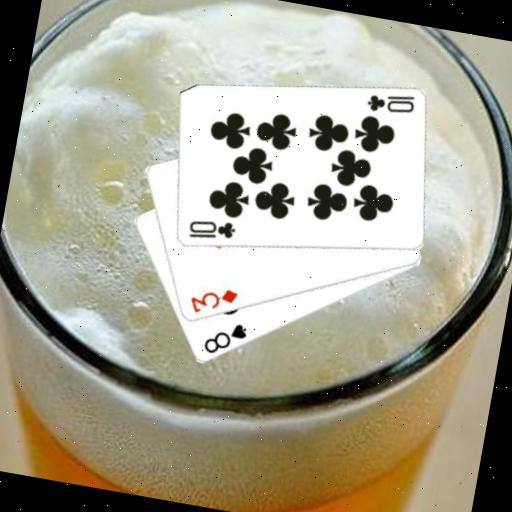10C: (362, 86, 418, 120), (183, 212, 238, 246)
3D: (184, 279, 240, 321)
8S: (199, 314, 251, 360)
